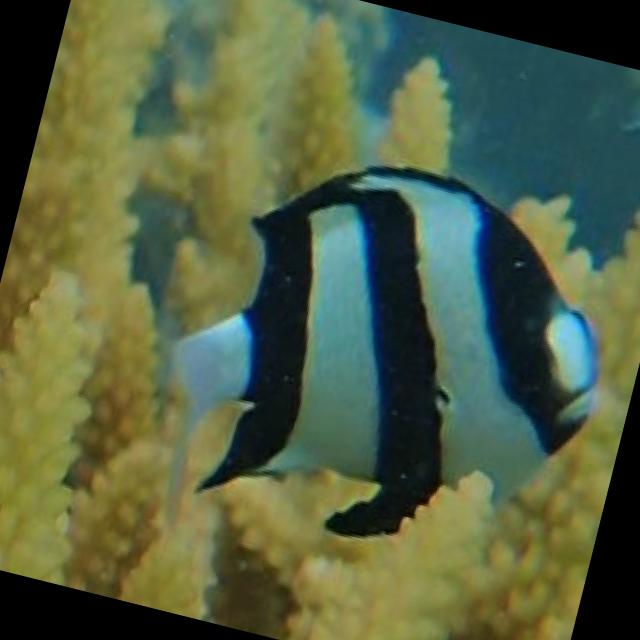ThreeStripedDamselfish: (173, 165, 600, 538)
